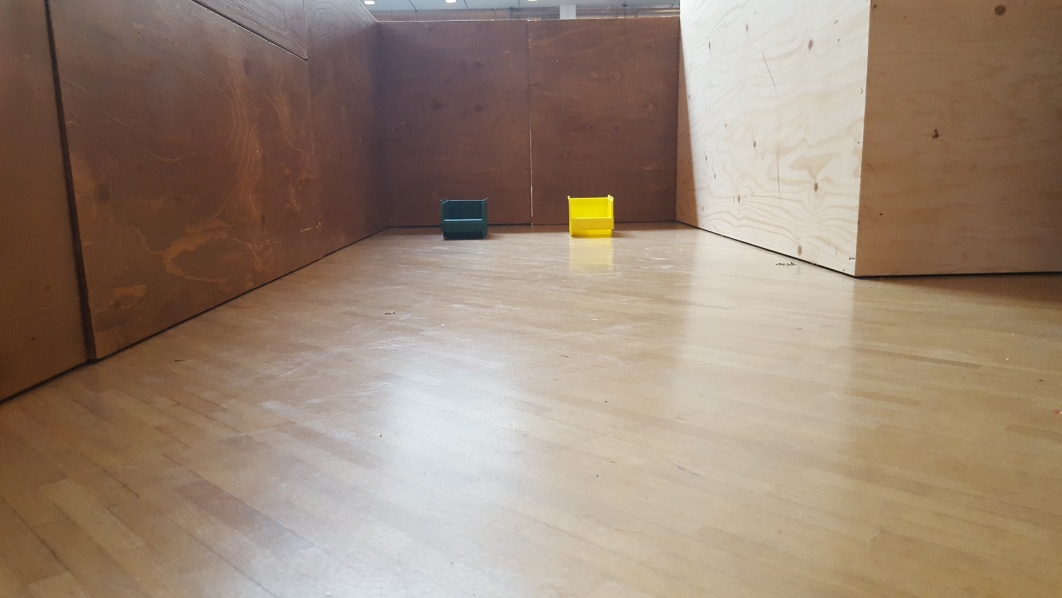tray: (556, 194, 618, 235), (442, 200, 493, 240)
